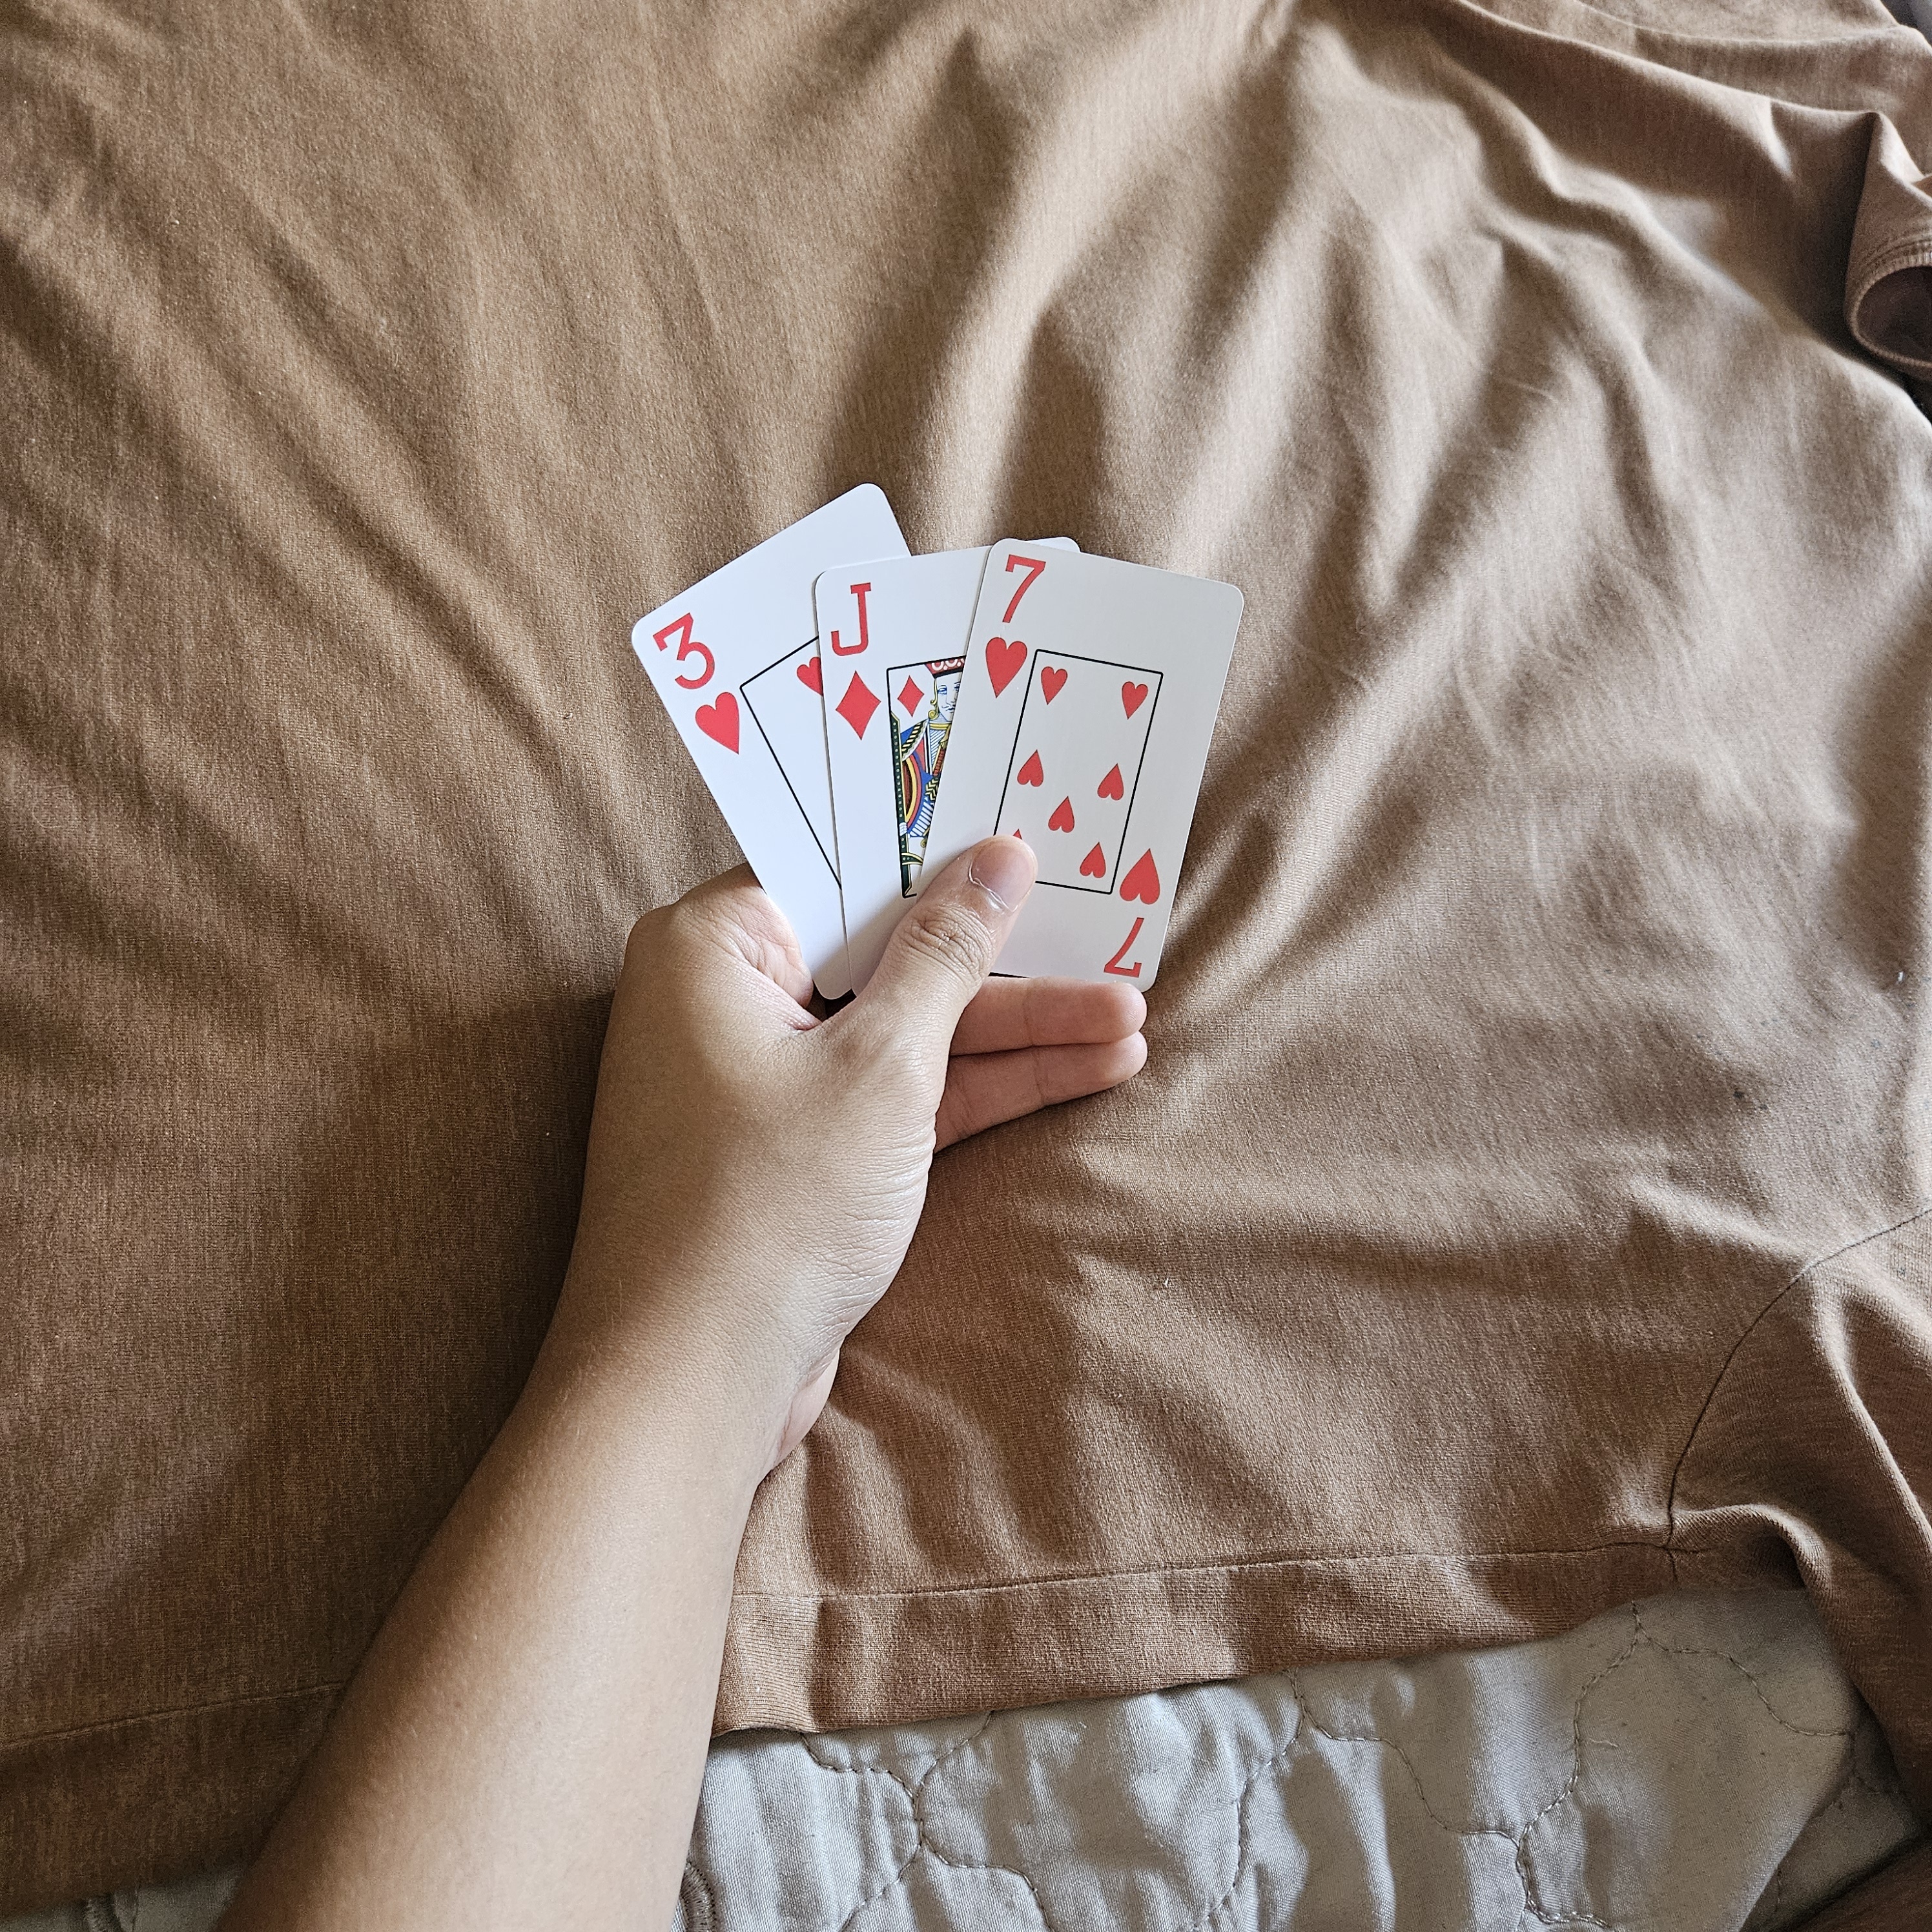3C: (644, 605, 752, 759)
7C: (978, 548, 1053, 702), (1099, 837, 1175, 985)
JO: (817, 575, 893, 745)
